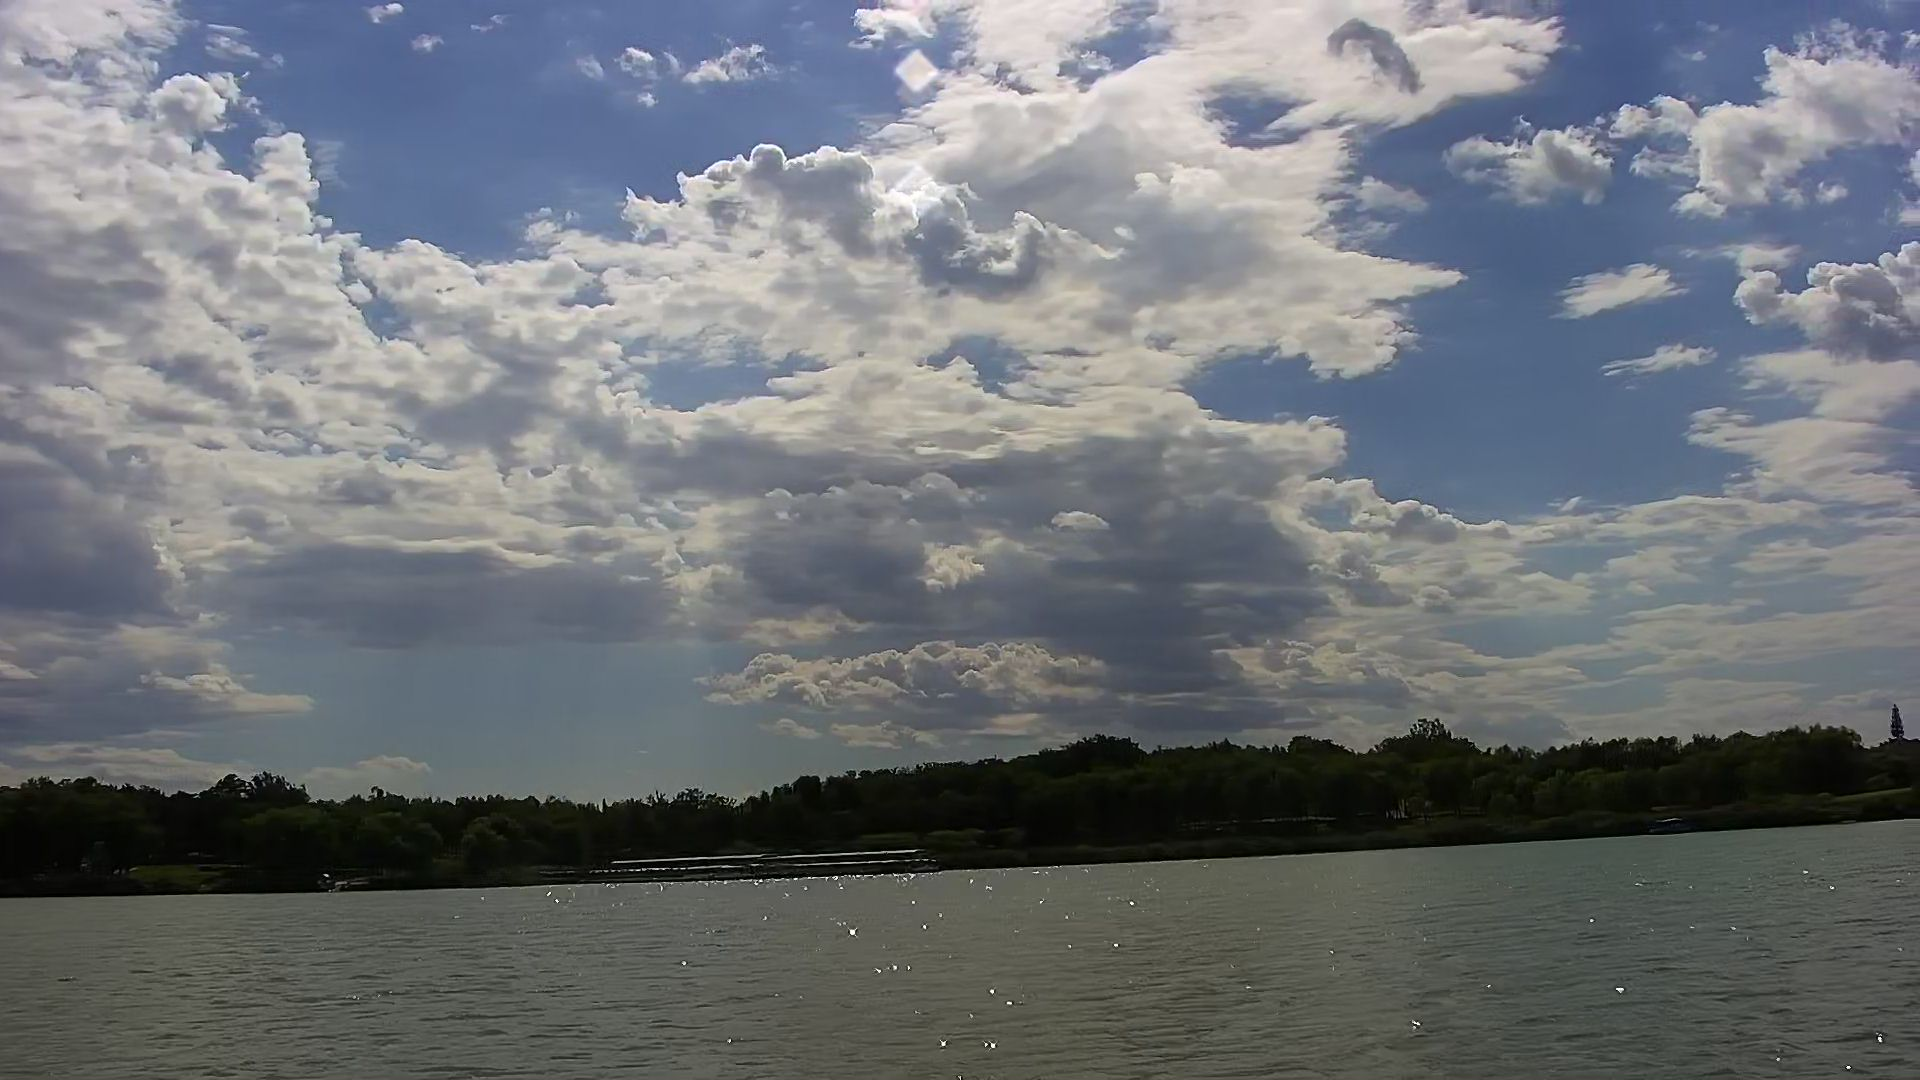harbor: (600, 837, 928, 885)
